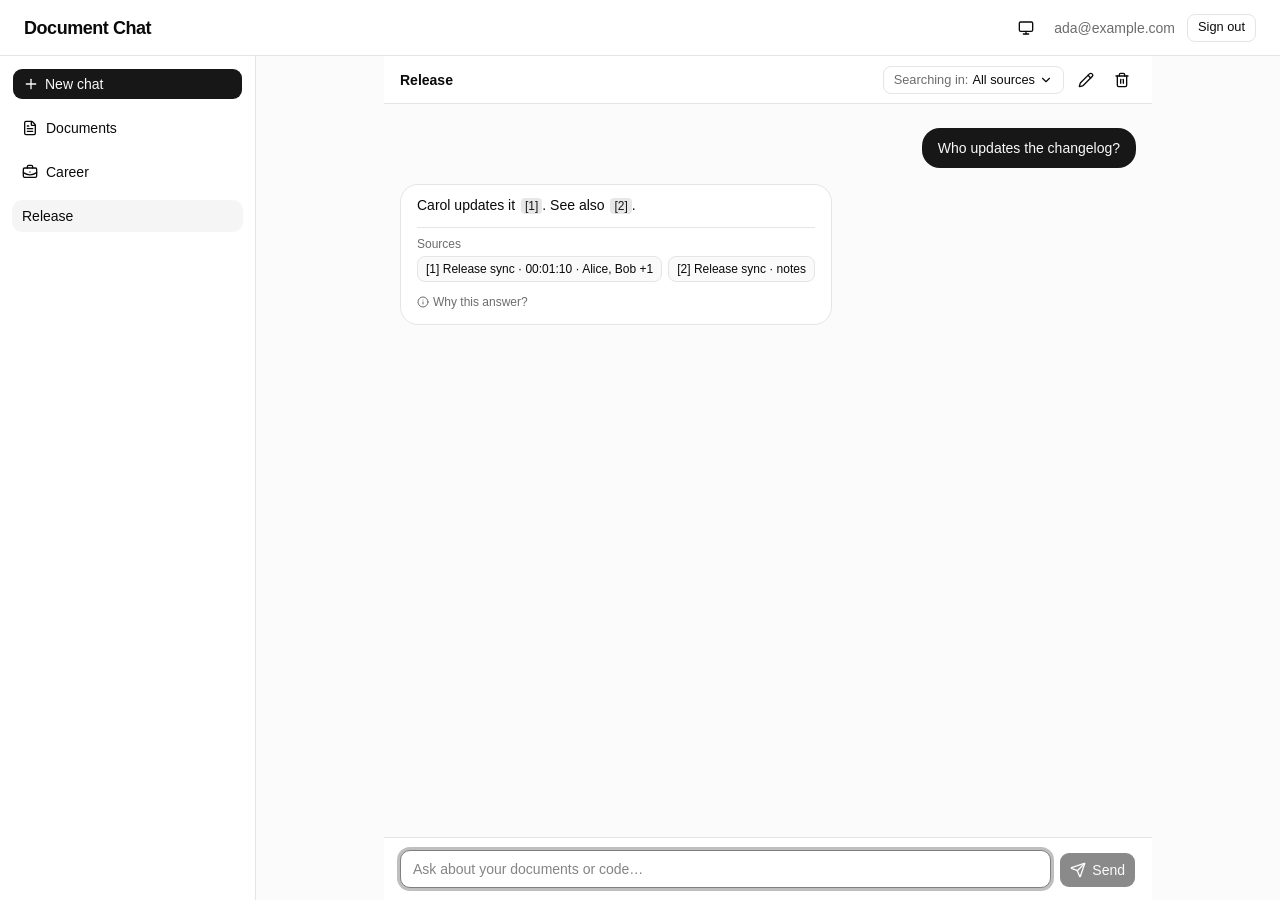
Test: a source that is part of a meeting › in the answer › says which part of the meeting it is when the citation is hovered
Hover over the button named "Source 1" at {"x": 532, "y": 206}, box left=521, top=198, right=542, bottom=214
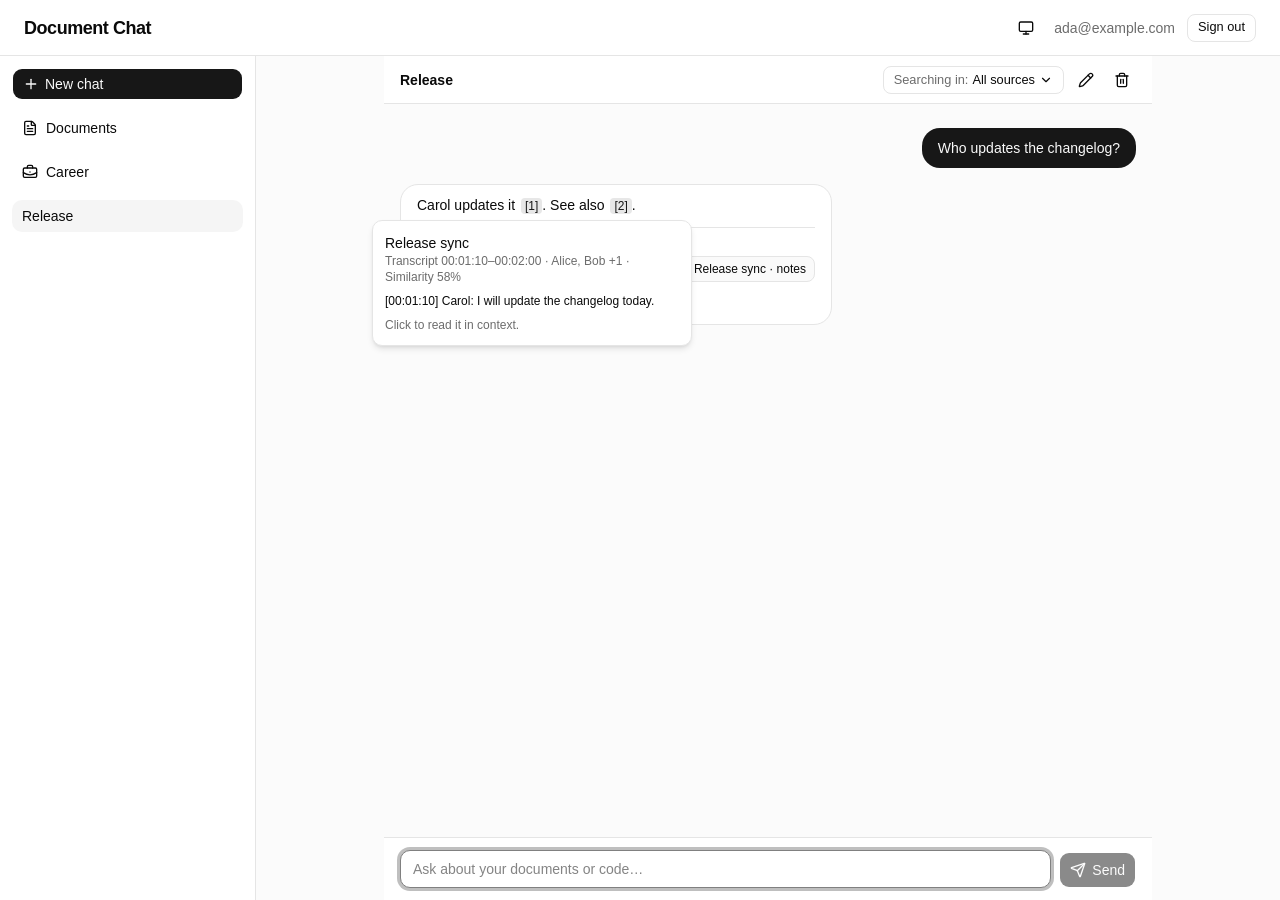
Result: the text "Transcript 00:01:10–00:02:00 · Alice, Bob +1 · Similarity 58%" is shown at left=385, top=254, right=630, bottom=284
